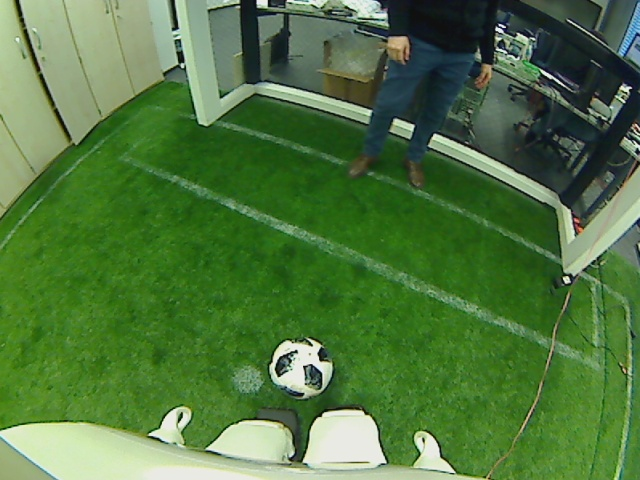ball: (267, 336, 333, 401)
